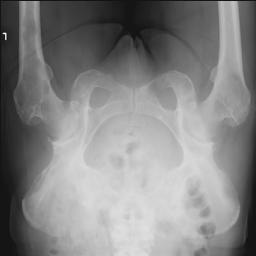cancer: (13, 0, 50, 110)
